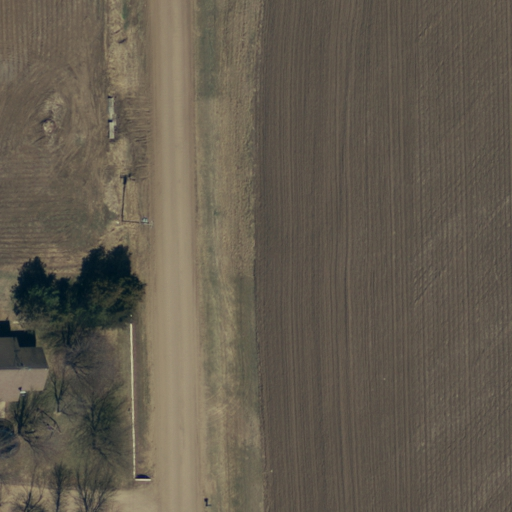DT: (118, 211, 156, 235)
